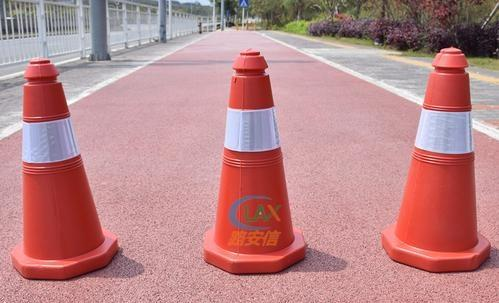cone_barrel: (5, 55, 116, 277), (198, 48, 305, 276), (381, 40, 487, 266)
